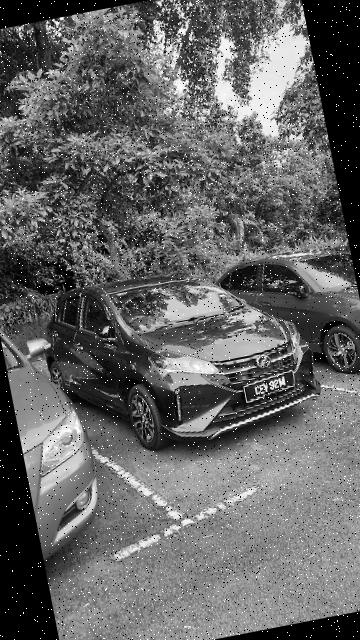License_Plate: (234, 367, 308, 412)
car: (33, 244, 329, 468), (1, 309, 113, 554), (210, 236, 360, 391)
